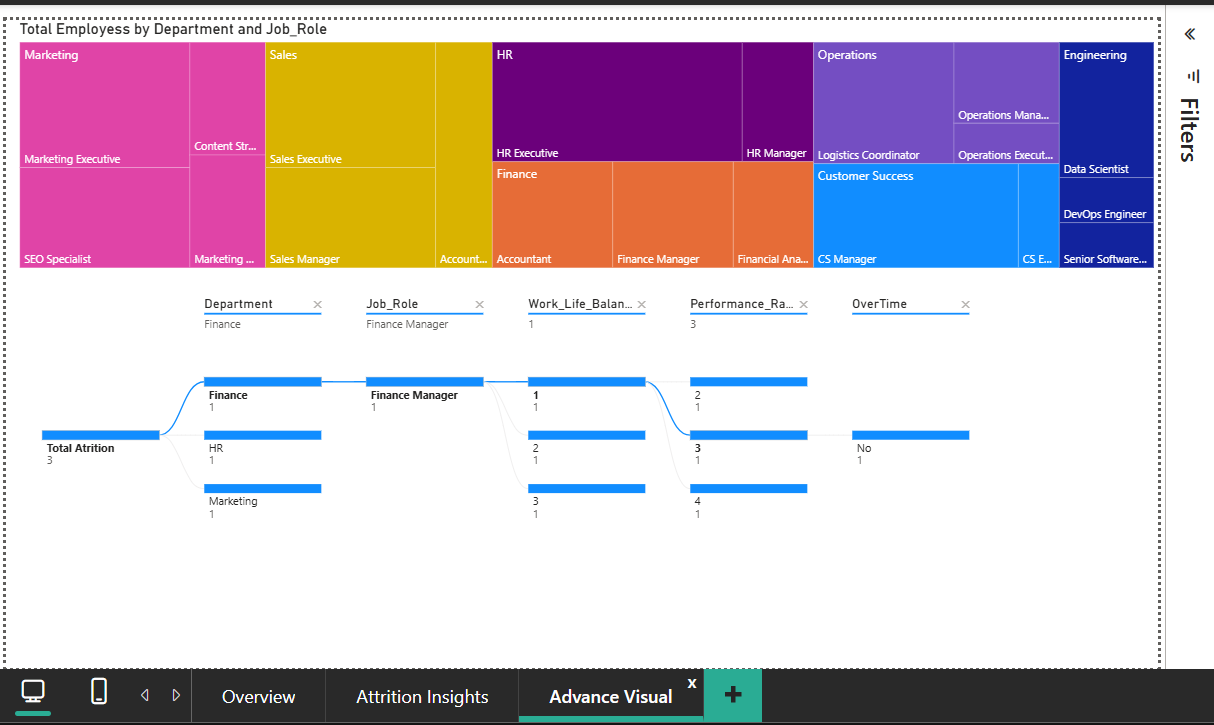

This screenshot's page, from the dashboard's own definition file:
{"tool":"powerbi","page":{"name":"Advance Visual","canvas":[1280,720],"ordinal":2},"visuals":[{"type":"treemap","fields":{"Group":["DIm_Employee.Department"],"Details":["DIm_Employee.Job_Role"],"Values":["DIm_Employee.Total Employess"]},"box":[10,0,1270,280],"z":0},{"type":"decompositionTreeVisual","fields":{"Analyze":["Fact_Attrition.Total Atrition"],"ExplainBy":["DIm_Employee.Department","DIm_Employee.Job_Role","Dim_Satisfaction.Work_Life_Balance","Dim_Performance.Performance_Rating","Fact_Attrition.OverTime"]},"box":[10,290,1270,280],"z":1}]}

Visuals, with their boxes on the page's 1280x720 design canvas (x1, y1, x2, y2). These are canvas units, not pixel positions in the 1214x725 screenshot, which may show the page scaled, cropped or inside an application window:
treemap - DIm_Employee.Department x DIm_Employee.Job_Role: bbox=[10, 0, 1280, 280]
decompositionTreeVisual - Fact_Attrition.Total Atrition x DIm_Employee.Department: bbox=[10, 290, 1280, 570]
